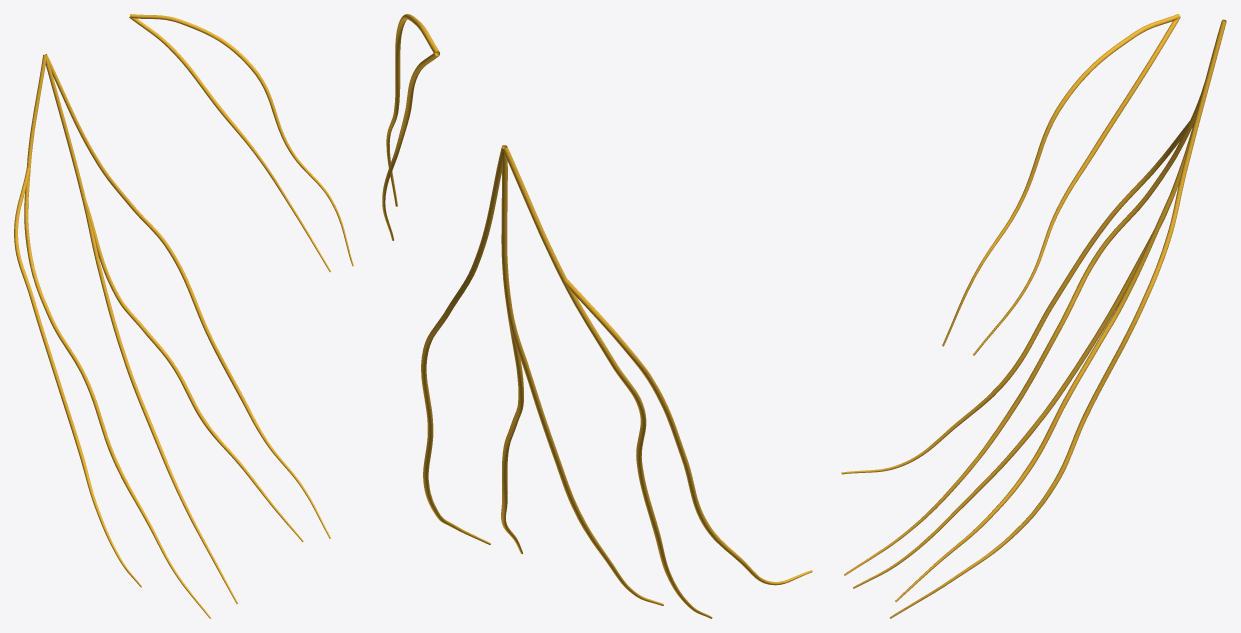
The model's file is nervoso-dorsal-digital-branches-of-radial-nerve-l.glb.
3 views of the same model, side by side, from view 1: azimuth 30°, elevation 25°; view 2: azimuth 150°, elevation 25°; view 3: azimuth 270°, elevation 25° (orthographic). The views are drawn at different scales.
Visible parts, largest first — view 1: Dorsal digital branches of radial nerve.l; view 2: Dorsal digital branches of radial nerve.l; view 3: Dorsal digital branches of radial nerve.l.
Boxes of the visible parts, x1,y1,x2,y2 form: Dorsal digital branches of radial nerve.l: [14, 14, 353, 618]; Dorsal digital branches of radial nerve.l: [382, 14, 812, 618]; Dorsal digital branches of radial nerve.l: [841, 14, 1226, 618].
Bounding box in the file's own units: 0.0721 × 0.1326 × 0.0774.
